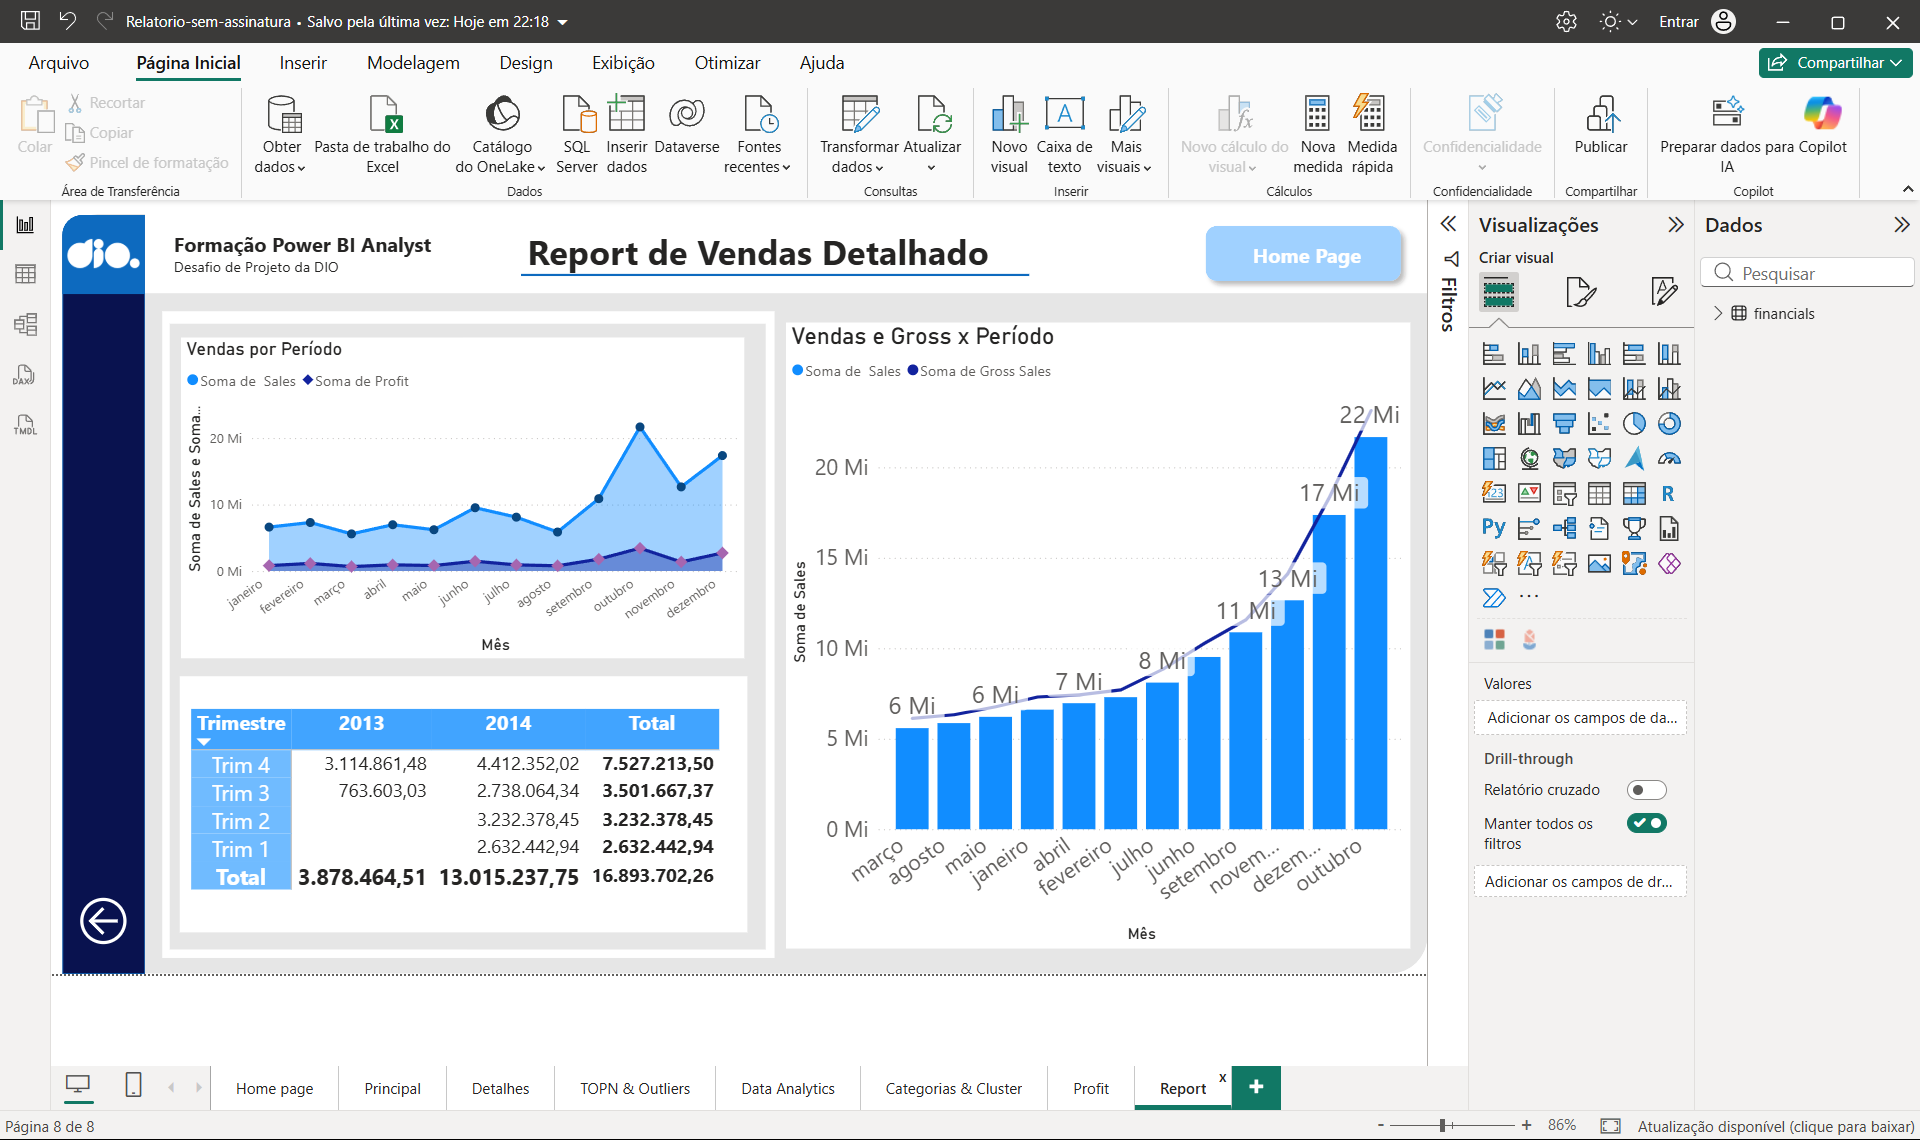

The page's visual inventory and layout, read from the dashboard file:
{"tool":"powerbi","page":{"name":"Report","canvas":[1280,720],"ordinal":7},"visuals":[{"type":"group","id":"g1","title":"Layout","box":[10,12.8,1270,707],"z":0},{"type":"shape","box":[10,12.8,1270,707],"z":0,"group":"g1"},{"type":"shape","box":[437.3,51.5,473,37.1],"z":0,"group":"g3"},{"type":"shape","box":[103.6,103.6,569.9,601.9],"z":0,"group":"g2"},{"type":"shape","box":[10.1,13.4,77.2,706.3],"z":1000,"group":"g1"},{"type":"textbox","box":[438.7,21.3,470.2,52.2],"z":1000,"group":"g3"},{"type":"lineClusteredColumnComboChart","title":"Vendas e Gross x Período","fields":{"Category":["financials.Date.Variation.Hierarquia de datas.Mês"],"Y":["Sum(financials. Sales)"],"Y2":["Sum(financials.Gross Sales)"]},"box":[684.2,114.3,580.6,582.1],"z":1000},{"type":"shape","box":[110.3,114.6,554.7,582.1],"z":1000,"group":"g2"},{"type":"shape","box":[10.1,13.4,77.2,73.8],"z":2000,"group":"g1"},{"type":"group","id":"g2","title":"Detalhes venda x profit","box":[103.6,103.6,569.9,601.9],"z":2000},{"type":"shape","box":[120.1,443.5,528.4,238.2],"z":2000,"group":"g2"},{"type":"image","title":"logo_dio","box":[10.1,18.4,77.2,62.1],"z":3000,"group":"g1"},{"type":"textbox","title":"Título do report","box":[109.7,22.9,377.9,64],"z":3000},{"type":"areaChart","title":"Vendas por Período","fields":{"Category":["financials.Date.Variation.Hierarquia de datas.Trimestre","financials.Date.Variation.Hierarquia de datas.Mês"],"Y":["Sum(financials. Sales)","Sum(financials.Profit)"]},"box":[120.9,128.6,524.2,298.7],"z":3000,"group":"g2"},{"type":"shape","box":[87,12.8,1193.1,74.1],"z":4000,"group":"g1"},{"type":"group","id":"g3","title":"Sales report","box":[437.3,21.3,472.4,67],"z":4000},{"type":"pivotTable","fields":{"Columns":["financials.Date.Variation.Hierarquia de datas.Ano"],"Rows":["financials.Date.Variation.Hierarquia de datas.Trimestre"],"Values":["Sum(financials.Profit)"]},"box":[126,468.4,509.5,189.9],"z":4000,"group":"g2"},{"type":"actionButton","box":[20.6,622.4,55.6,96.9],"z":6000},{"type":"actionButton","title":"Home Page","box":[1064.7,14.6,199.6,69.2],"z":9000,"group":"g4"},{"type":"textbox","box":[1101,33.7,134.4,34.6],"z":9500,"group":"g4"},{"type":"group","id":"g4","title":"Botão home","box":[1064.7,14.6,199.6,69.2],"z":9501}]}

Visuals, with their boxes on the page's 1280x720 design canvas (x1, y1, x2, y2). These are canvas units, not pixel positions in the 1920x1140 screenshot, which may show the page scaled, cropped or inside an application window:
"Layout" group: pyautogui.locateOnScreen(10, 13, 1280, 720)
shape: pyautogui.locateOnScreen(10, 13, 1280, 720)
shape: pyautogui.locateOnScreen(437, 52, 910, 89)
shape: pyautogui.locateOnScreen(104, 104, 674, 706)
shape: pyautogui.locateOnScreen(10, 13, 87, 720)
textbox: pyautogui.locateOnScreen(439, 21, 909, 74)
"Vendas e Gross x Período" lineClusteredColumnComboChart: pyautogui.locateOnScreen(684, 114, 1265, 696)
shape: pyautogui.locateOnScreen(110, 115, 665, 697)
shape: pyautogui.locateOnScreen(10, 13, 87, 87)
"Detalhes venda x profit" group: pyautogui.locateOnScreen(104, 104, 674, 706)
shape: pyautogui.locateOnScreen(120, 444, 648, 682)
"logo_dio" image: pyautogui.locateOnScreen(10, 18, 87, 80)
"Título do report" textbox: pyautogui.locateOnScreen(110, 23, 488, 87)
"Vendas por Período" areaChart: pyautogui.locateOnScreen(121, 129, 645, 427)
shape: pyautogui.locateOnScreen(87, 13, 1280, 87)
"Sales report" group: pyautogui.locateOnScreen(437, 21, 910, 88)
pivotTable - financials.Date.Variation.Hierarquia de datas.Ano x financials.Date.Variation.Hierarquia de datas.Trimestre: pyautogui.locateOnScreen(126, 468, 636, 658)
actionButton: pyautogui.locateOnScreen(21, 622, 76, 719)
"Home Page" actionButton: pyautogui.locateOnScreen(1065, 15, 1264, 84)
textbox: pyautogui.locateOnScreen(1101, 34, 1235, 68)
"Botão home" group: pyautogui.locateOnScreen(1065, 15, 1264, 84)
